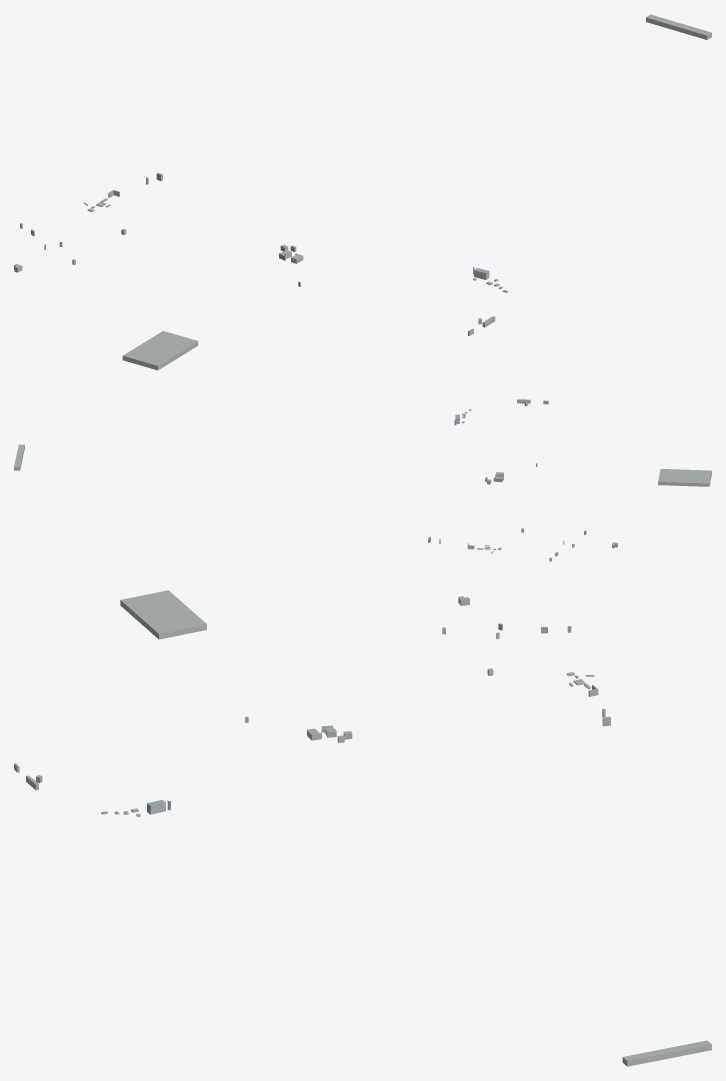
The picture shows the model from 3 angles, top to bottom: view 1: azimuth 30°, elevation 25°; view 2: azimuth 150°, elevation 25°; view 3: azimuth 270°, elevation 25°; orthographic projection. The views are drawn at different scales.
Visible parts, largest first — view 1: 上海全域建筑分块 · mapped building neighborhood; view 2: 上海全域建筑分块 · mapped building neighborhood; view 3: 上海全域建筑分块 · mapped building neighborhood.
Part boxes in pixels (box(x1,y1,x2,y2)): 上海全域建筑分块 · mapped building neighborhood: box(14, 14, 711, 370); 上海全域建筑分块 · mapped building neighborhood: box(14, 399, 711, 561); 上海全域建筑分块 · mapped building neighborhood: box(14, 590, 711, 1066).
Bounding box in the file's own units: 2131 × 18.41 × 1335.
